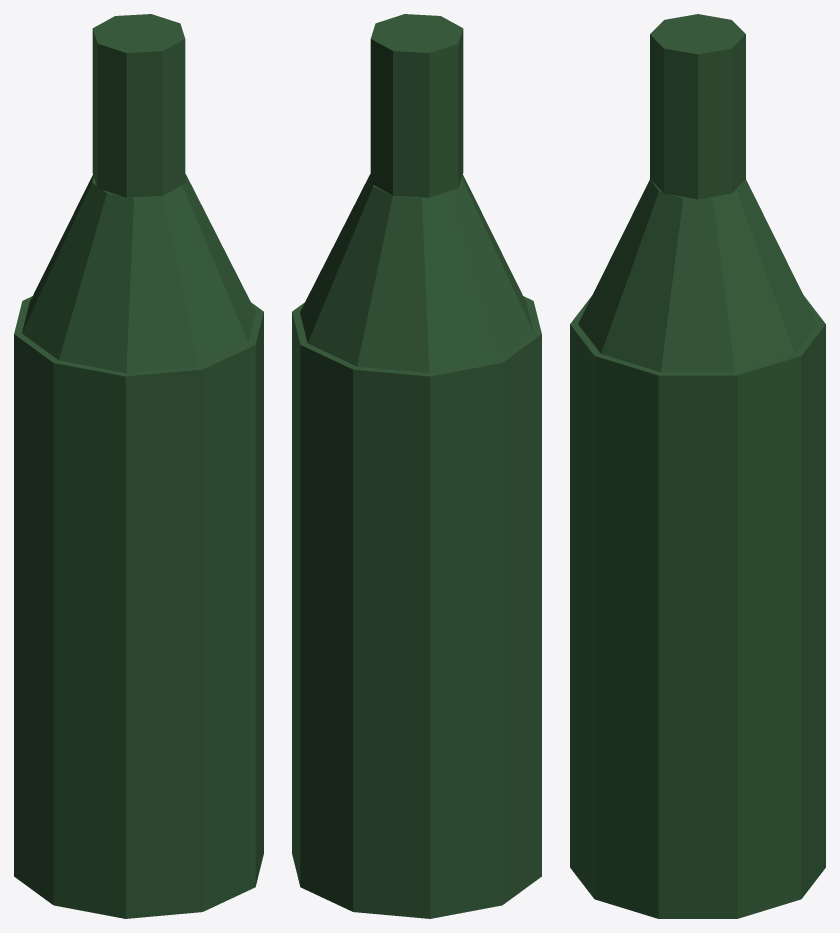
Rendered from bottle.glb.
3 views of the same model, side by side, from view 1: azimuth 30°, elevation 25°; view 2: azimuth 150°, elevation 25°; view 3: azimuth 270°, elevation 25° (orthographic).
Visible parts, largest first — view 1: bottle; view 2: bottle; view 3: bottle.
Boxes of the visible parts, x1=… form: bottle: x1=14, y1=14, x2=263, y2=918; bottle: x1=292, y1=14, x2=541, y2=918; bottle: x1=570, y1=14, x2=825, y2=918.
Bounding box in the file's own units: 0.0609 × 0.23 × 0.064.
